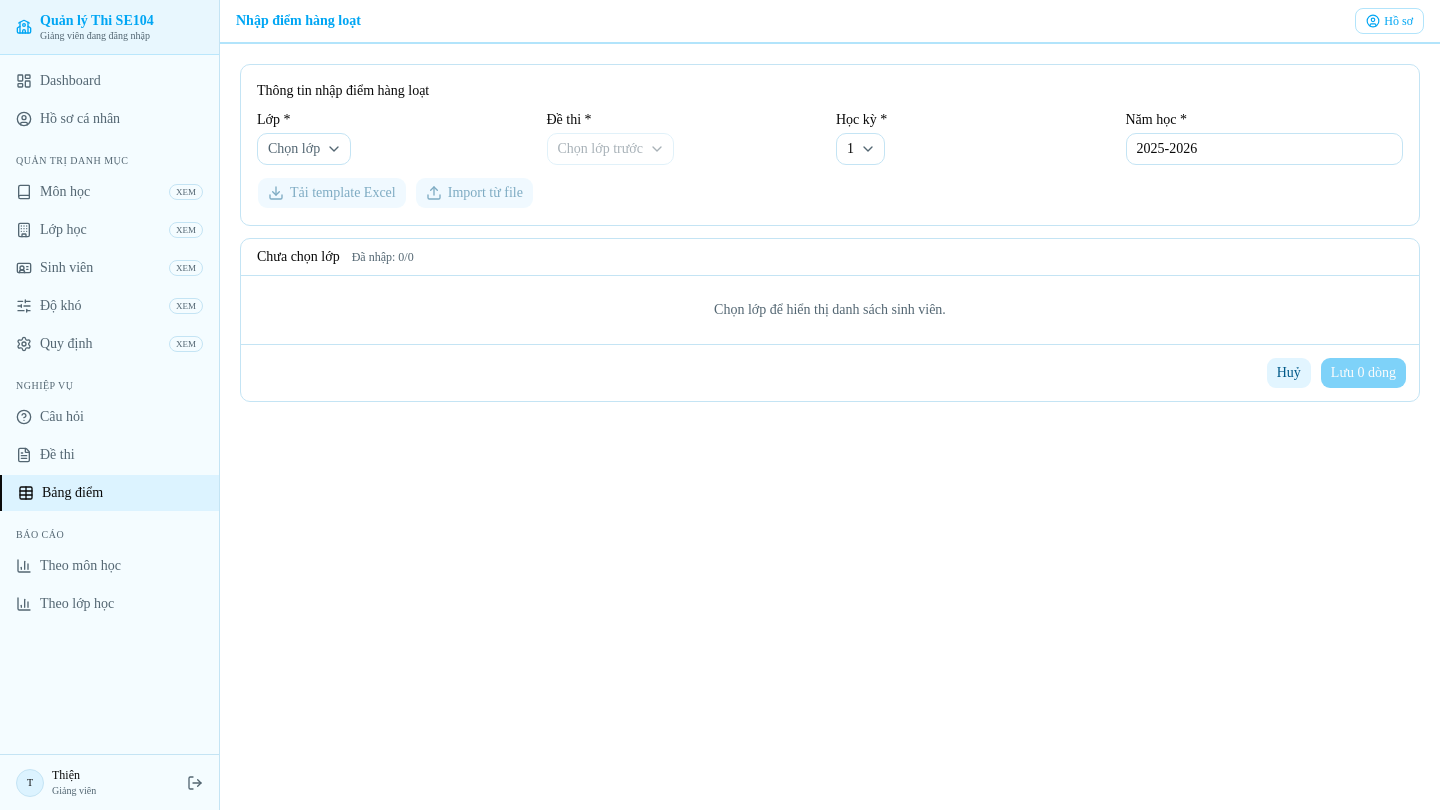
it: BatchGradesPage › loads students after picking a class and updates summary as scores are entered
Click the dropdown named "lớp *" at (304, 149), box [257,133,351,165]
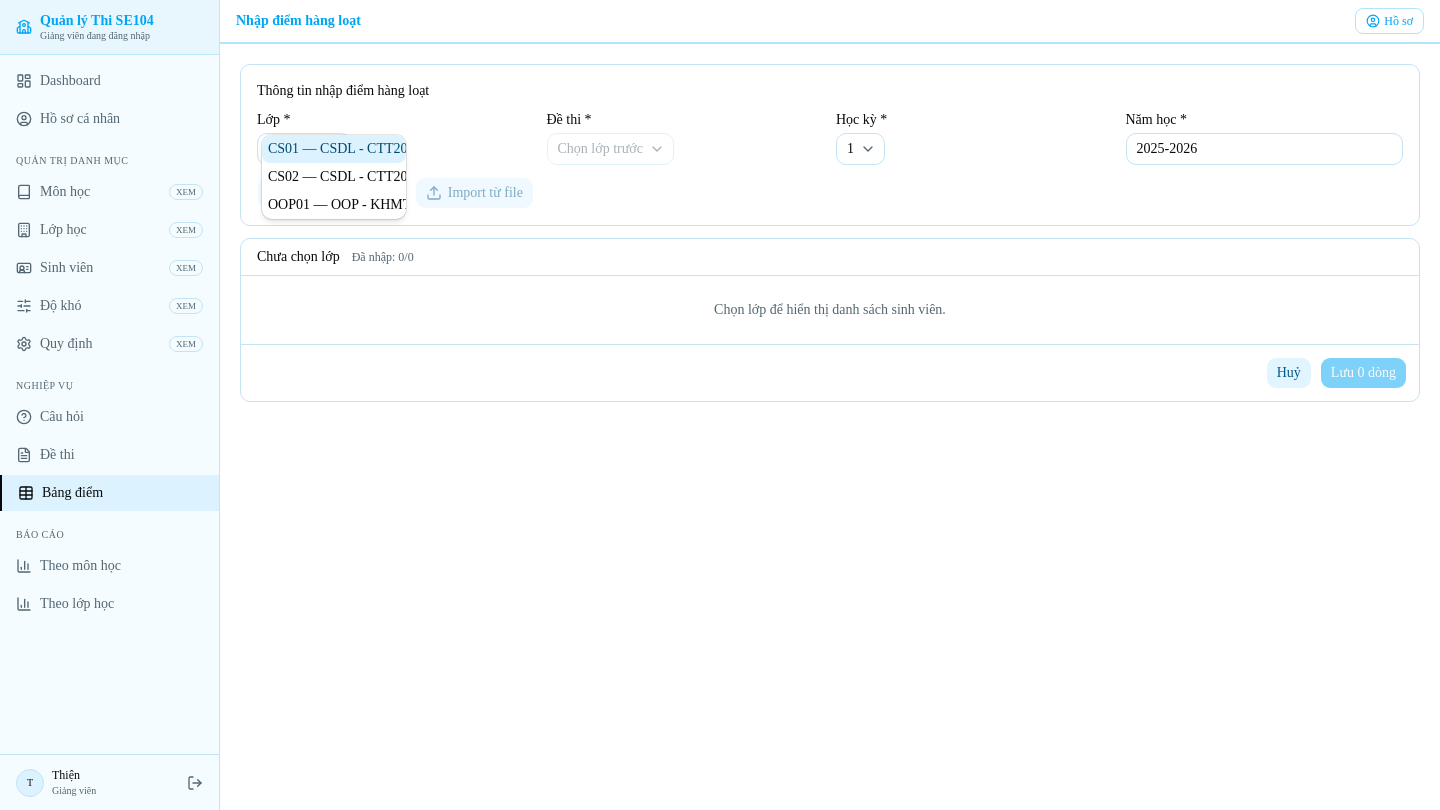
Click the option "CS01 — CSDL - CTT2022" at (334, 149), box [262,135,406,163]
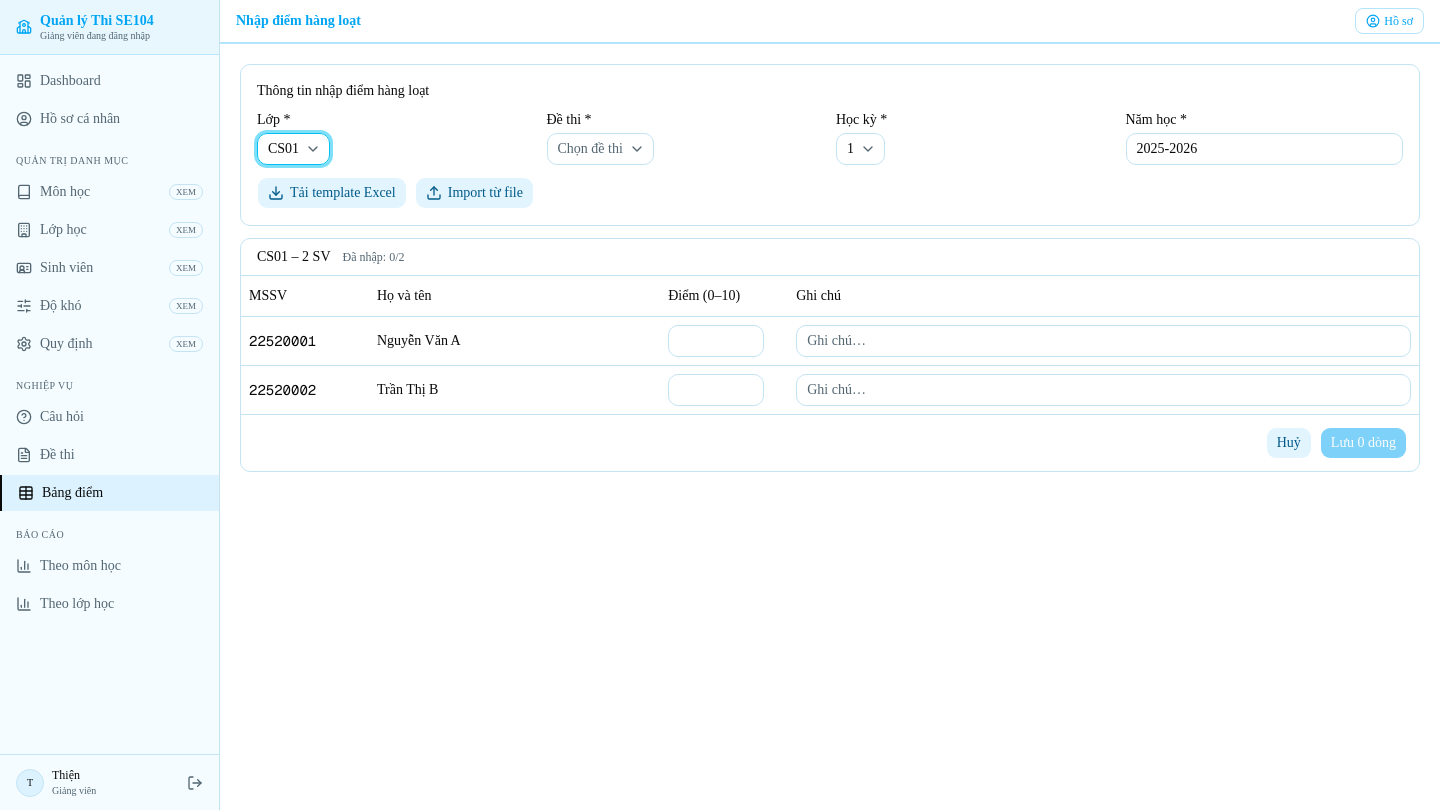
// Wait for inline inputs (2 students in CS01 from seed)
Type "8.5" into the number field named "Điểm 22520001" at (716, 340), box [668,324,764,356]
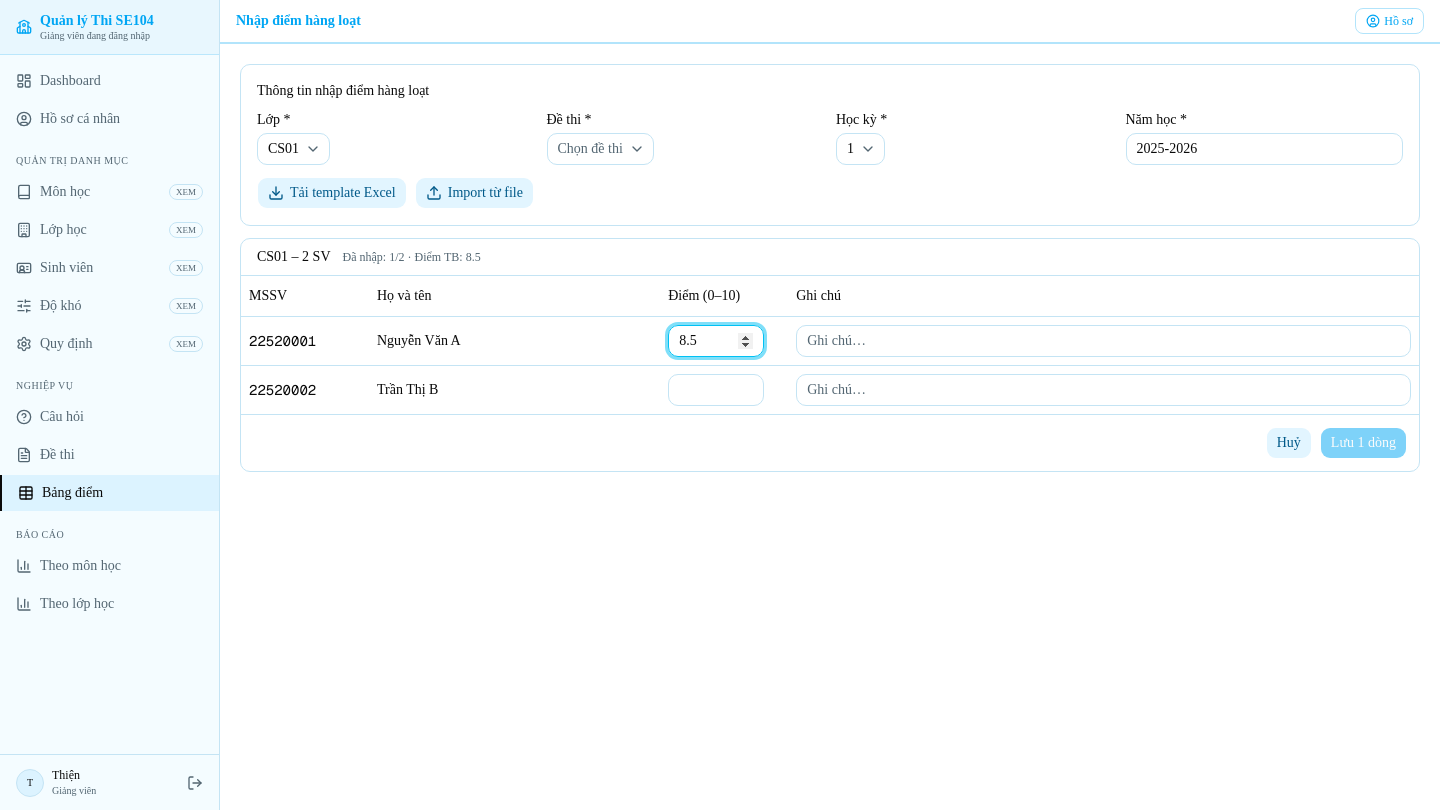
expect the element with test id "batch-summary" shows "1/2": met, box [342,249,481,265]
expect the element with test id "batch-summary" shows "8.5": met, box [466,250,481,264]
Type "6" into the number field named "Điểm 22520002" at (716, 390), box [668,374,764,406]
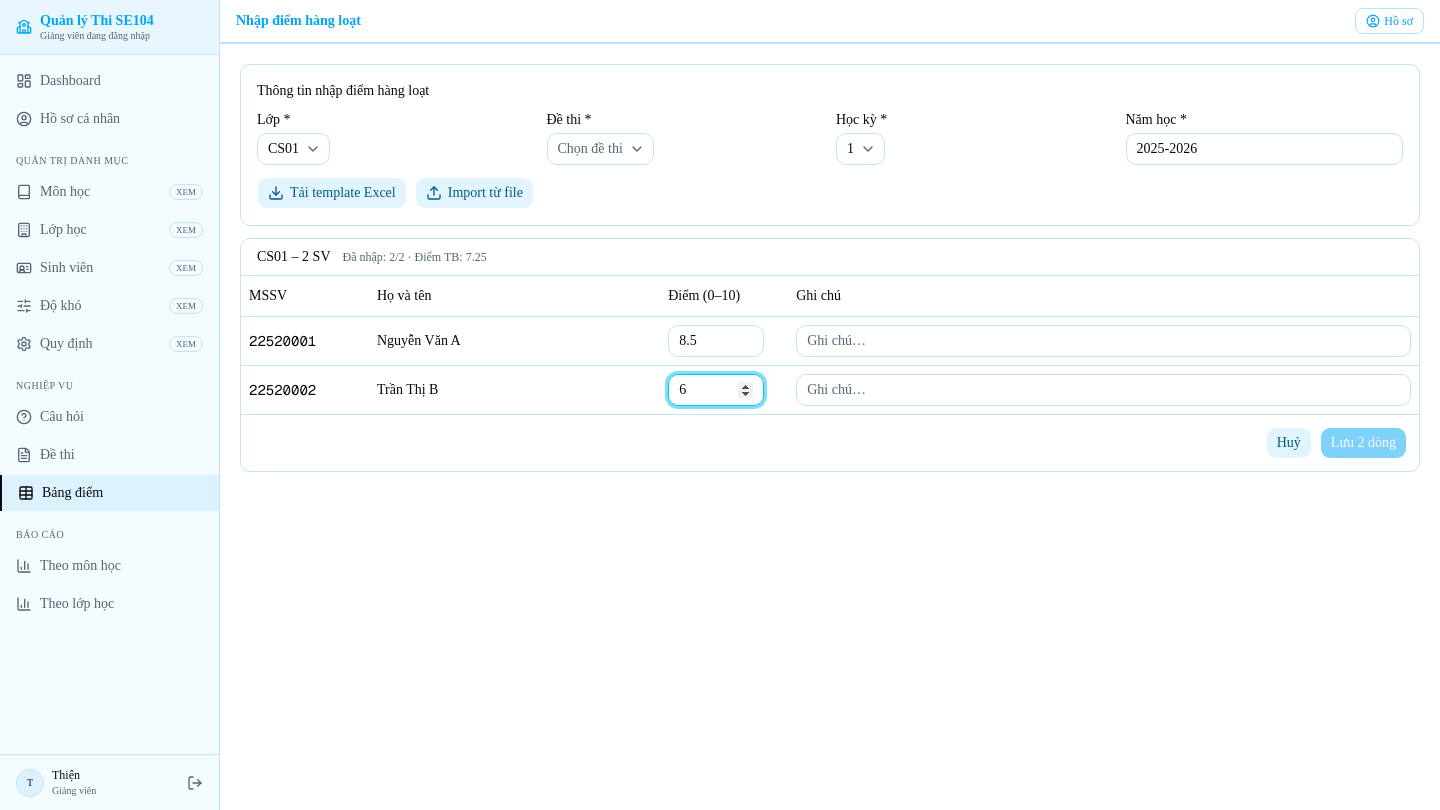
expect the element with test id "batch-summary" shows "2/2": met, box [342,249,487,265]
expect the element with test id "batch-summary" shows "7.25": met, box [466,250,487,264]
